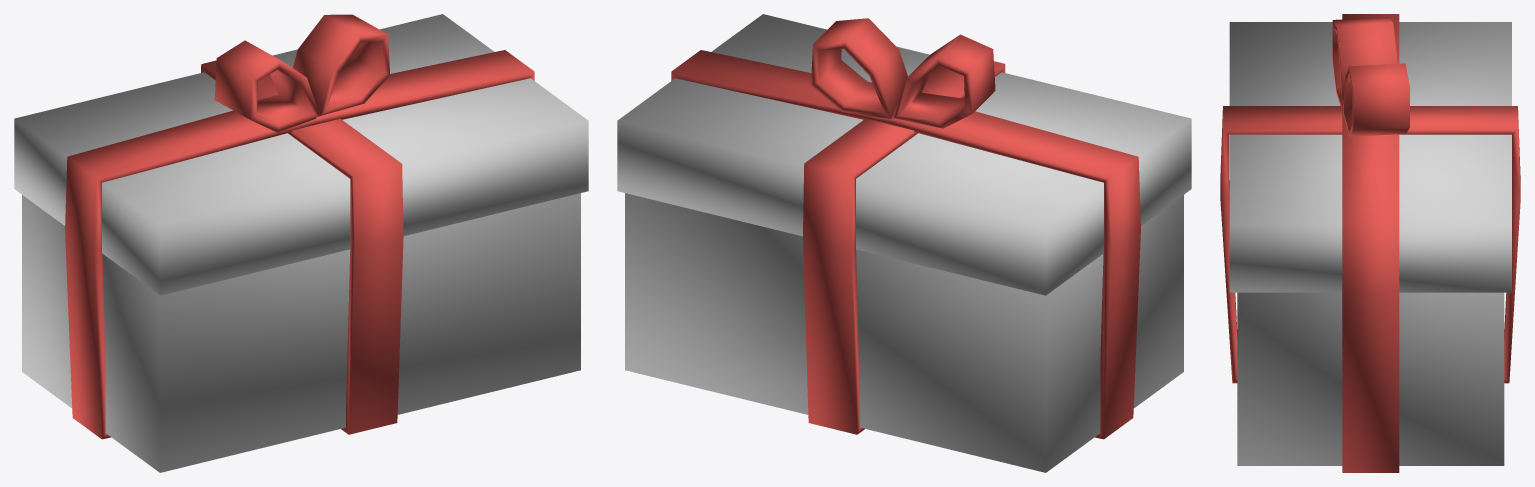
Rendered from GiftBox_Large.fbx.
3 views of the same model, side by side, from view 1: azimuth 30°, elevation 25°; view 2: azimuth 150°, elevation 25°; view 3: azimuth 270°, elevation 25° (orthographic). The views are drawn at different scales.
Visible parts, largest first — view 1: GiftBox_Large; view 2: GiftBox_Large; view 3: GiftBox_Large.
Boxes of the visible parts, x1,y1,x2,y2 form: GiftBox_Large: [14, 14, 588, 472]; GiftBox_Large: [617, 14, 1191, 472]; GiftBox_Large: [1220, 14, 1520, 472].
Size of the model in its own units: 120 by 89.62 by 73.03.
